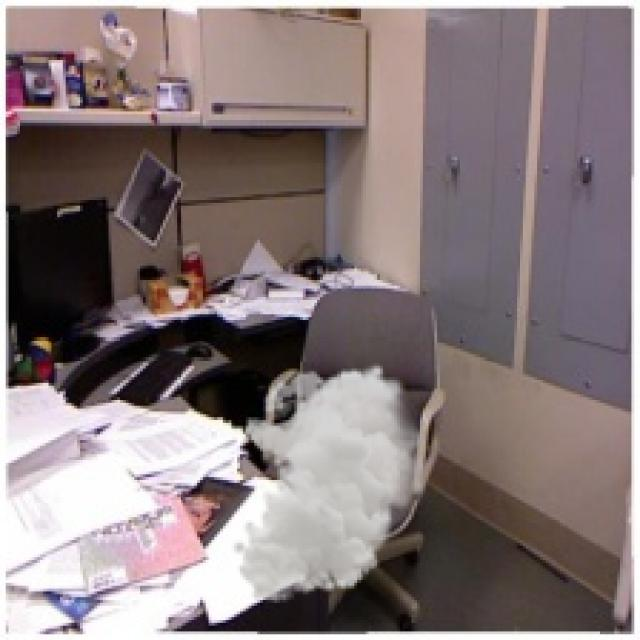smoke: (232, 363, 432, 603)
